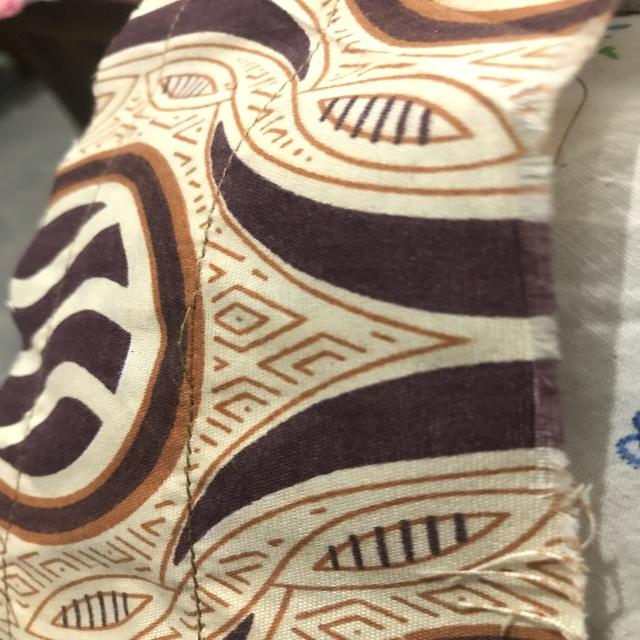good: (175, 424, 206, 536)
skip: (168, 294, 222, 395)
